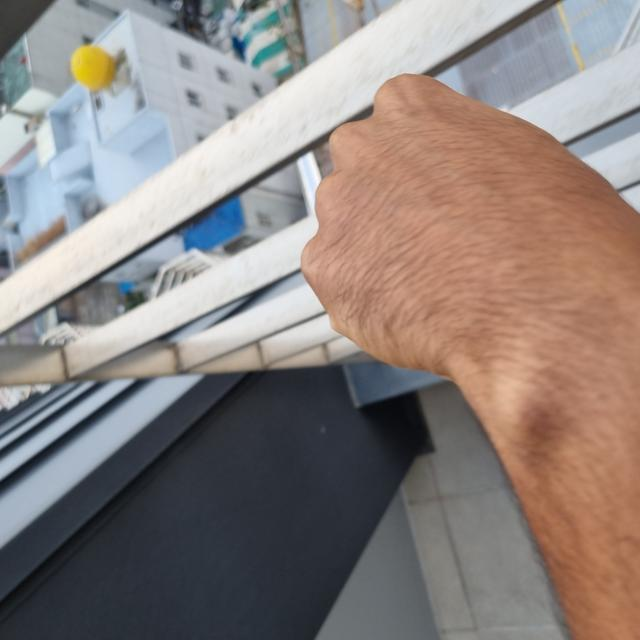Rock: (209, 297, 574, 638)
